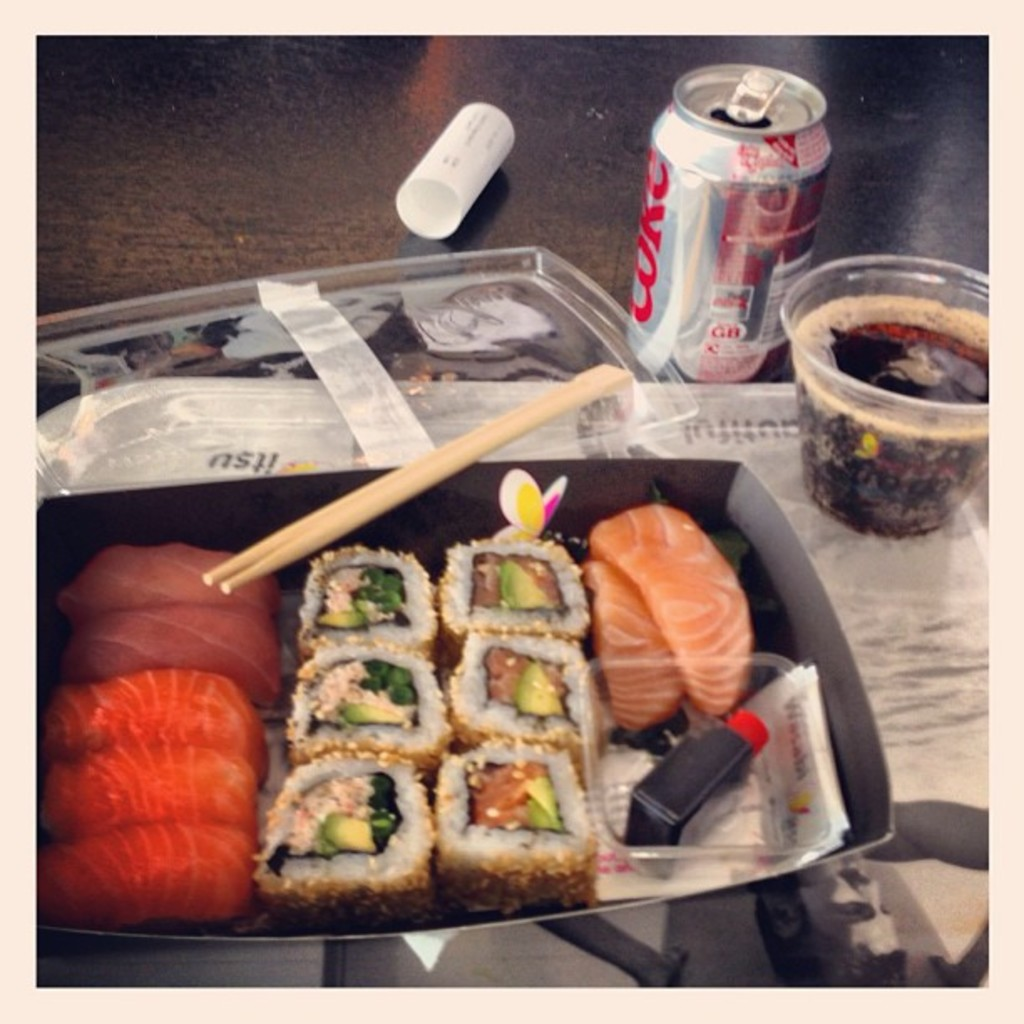sushi: (251, 547, 599, 935), (246, 751, 438, 917)
